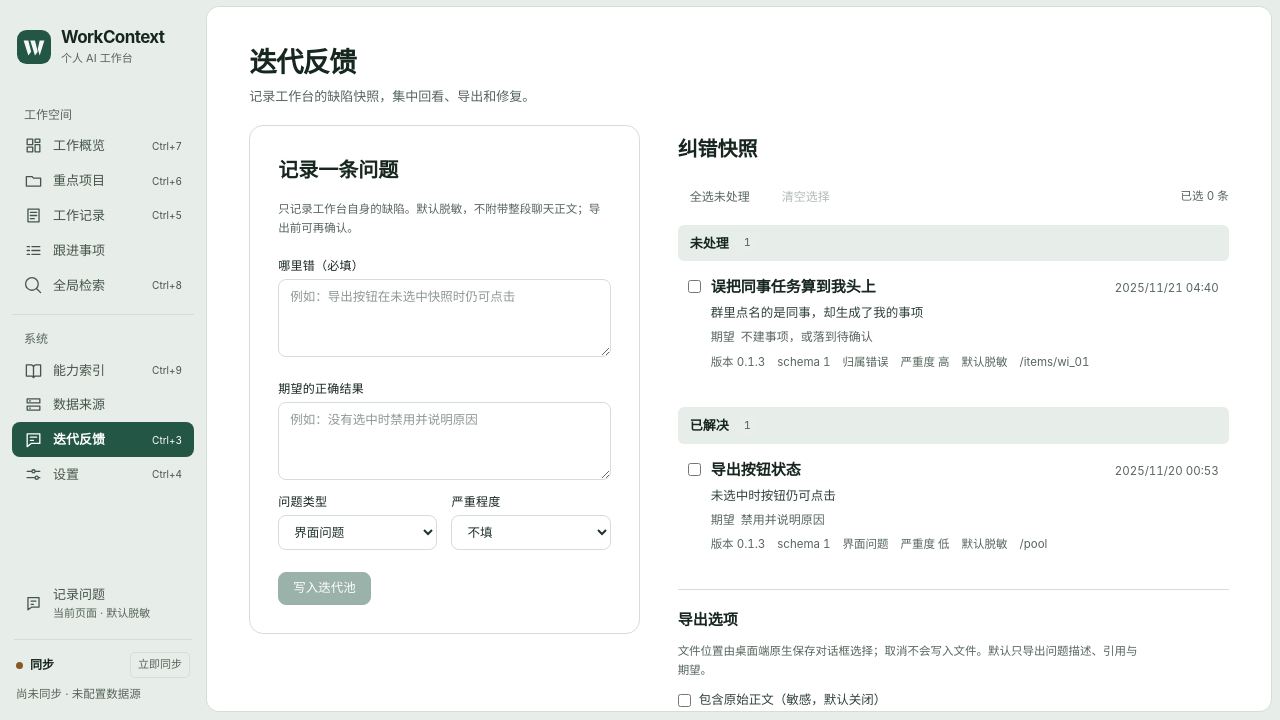
Test: 迭代池创建与导出 › 创建快照发送真实描述并刷新列表
The width and height of the screenshot is (1280, 720).
expect the text "误把同事任务算到我头上" is shown: met, box [711,276,876,300]
Type "来源标签丢失了会话名" into the text box labelled "哪里错（必填）" at (444, 318), box [278,279,611,357]
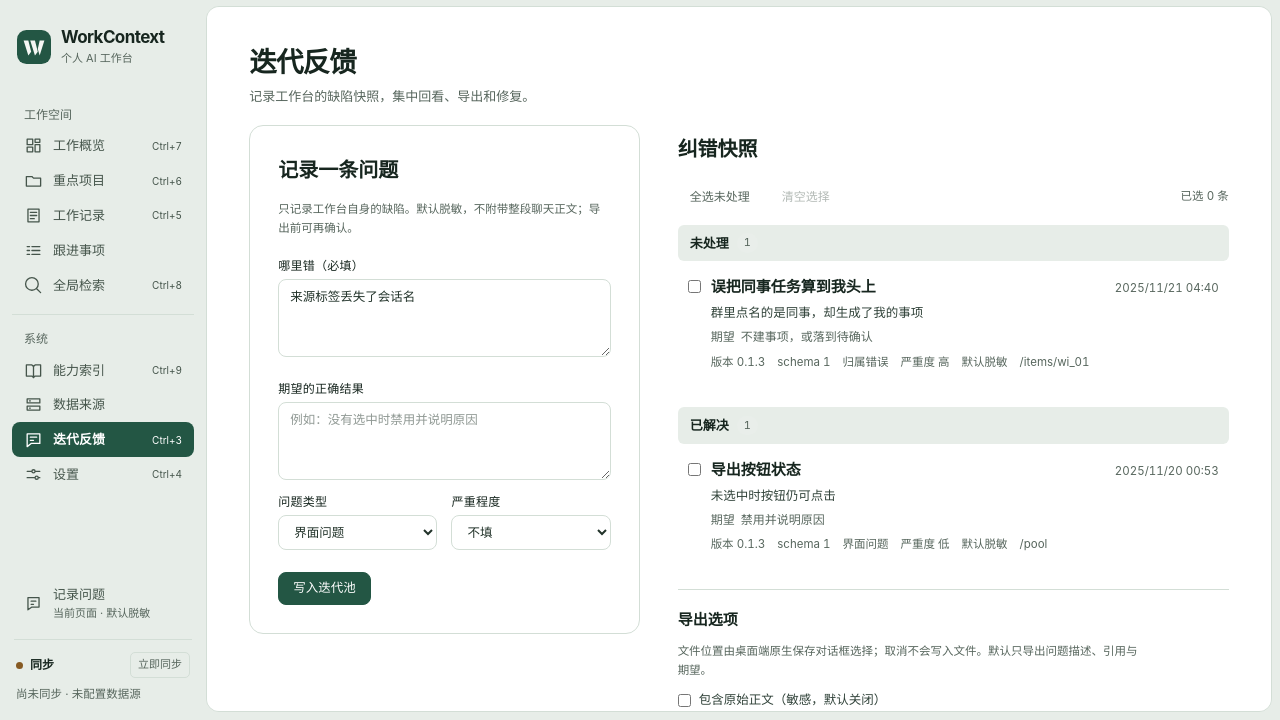
Type "保留群名与发送者" into the text box labelled "期望的正确结果" at (444, 441), box [278,402,611,480]
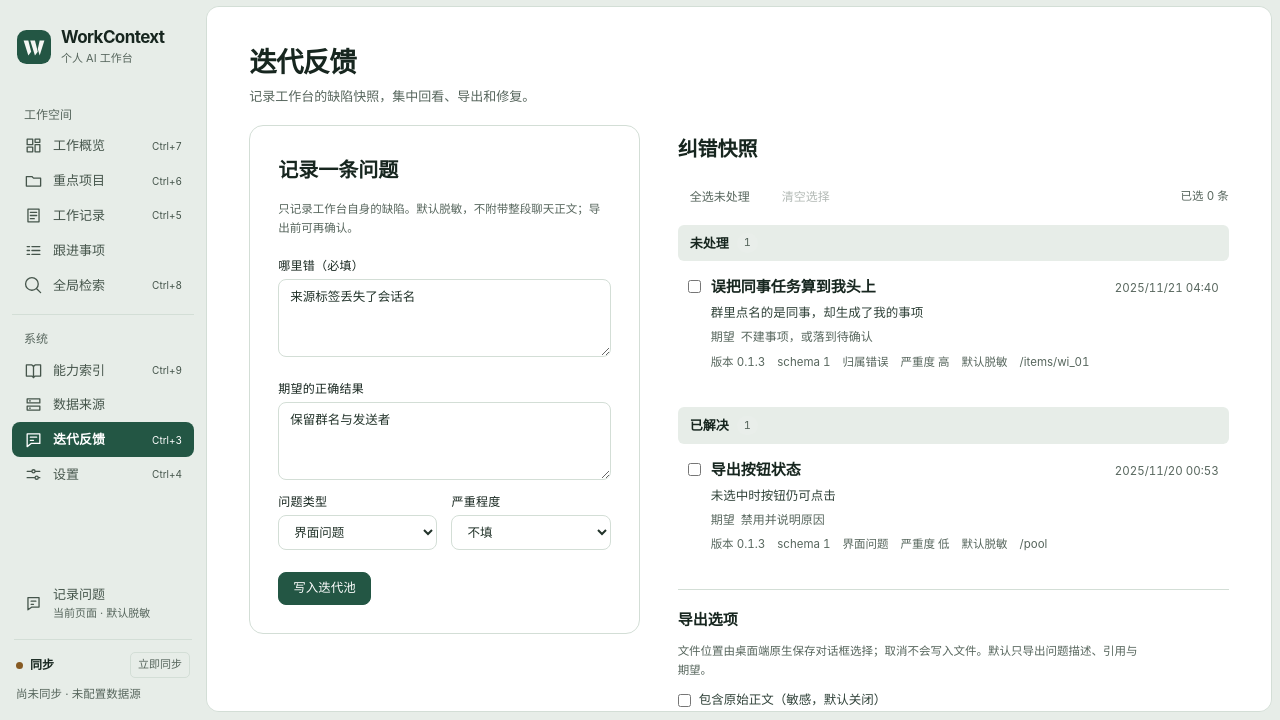
Click the button "写入迭代池" at (324, 589), box [278,572,371,605]
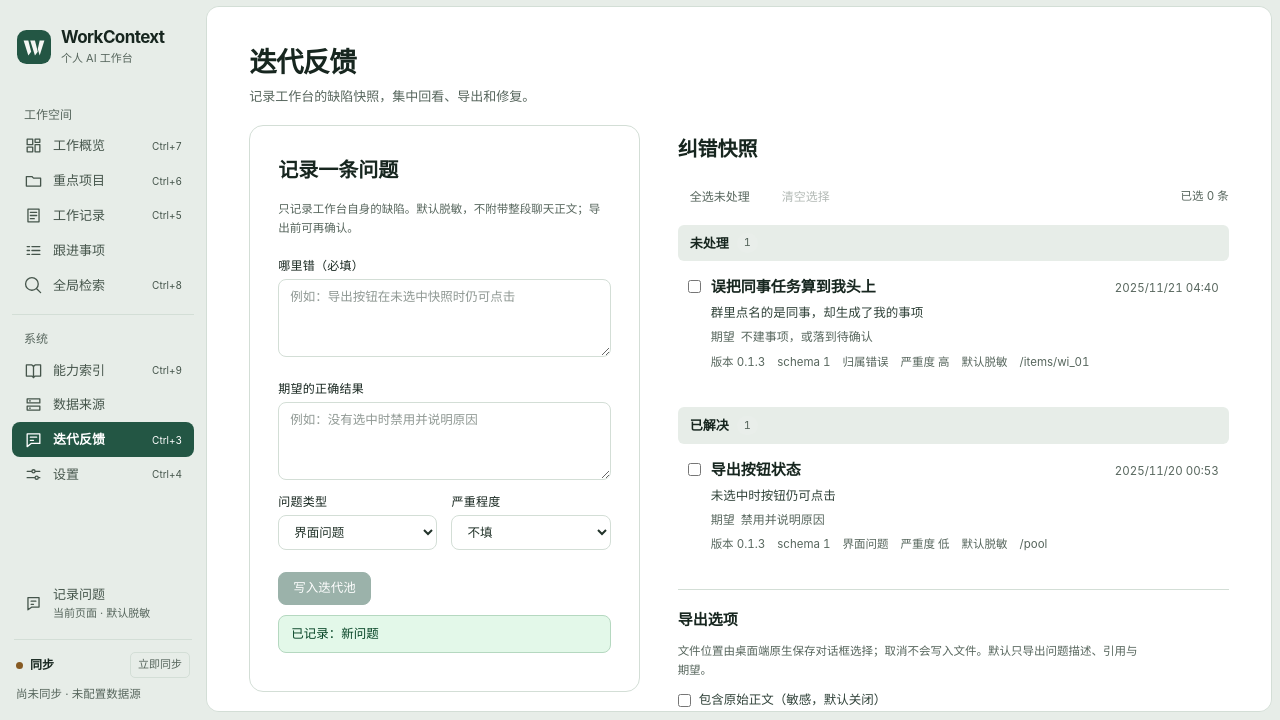
expect the text "已记录：新问题" is shown: met, box [278,615,611,653]
